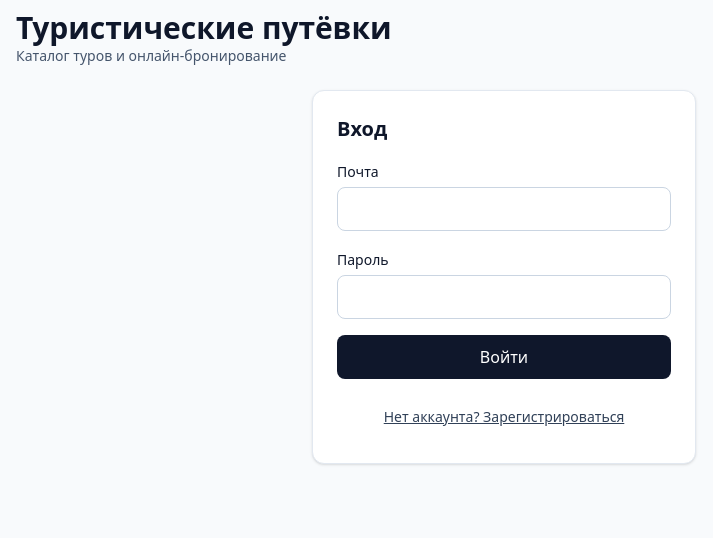
Scenario: App: авторизация › регистрация: лимит запросов (429) объясняется, а не выдаётся за ошибку сервера
Click the button "Нет аккаунта? Зарегистрироваться".
click(504, 417)  # box [337, 395, 671, 439]
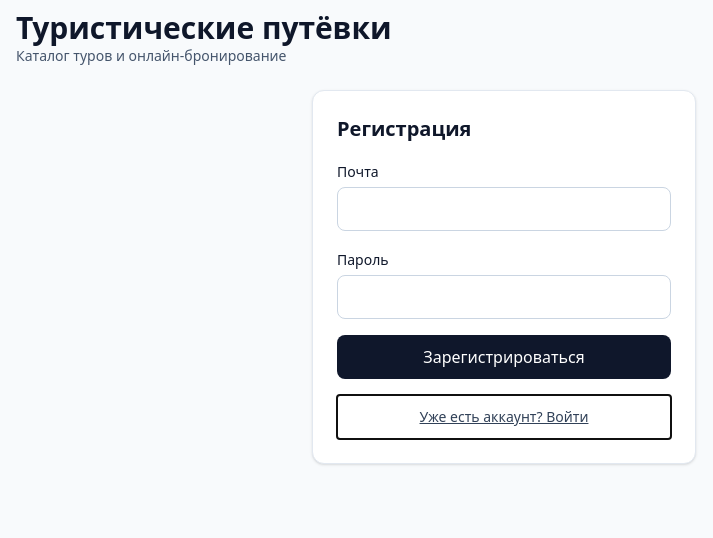
Type "rem@example.com" into the field labelled "Почта".
click(504, 209); type("rem@example.com")  # box [337, 187, 671, 231]
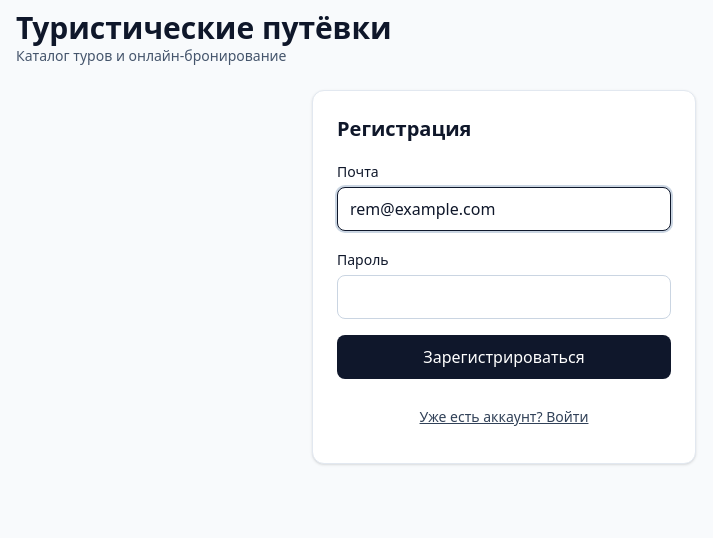
Type "secret123" into the password field labelled "Пароль".
click(504, 297); type("secret123")  # box [337, 275, 671, 319]
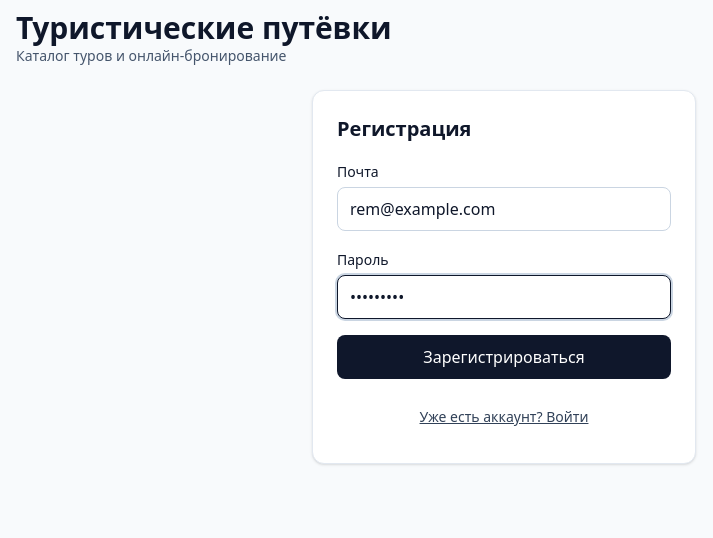
Click the button "Зарегистрироваться".
click(504, 357)  # box [337, 335, 671, 379]
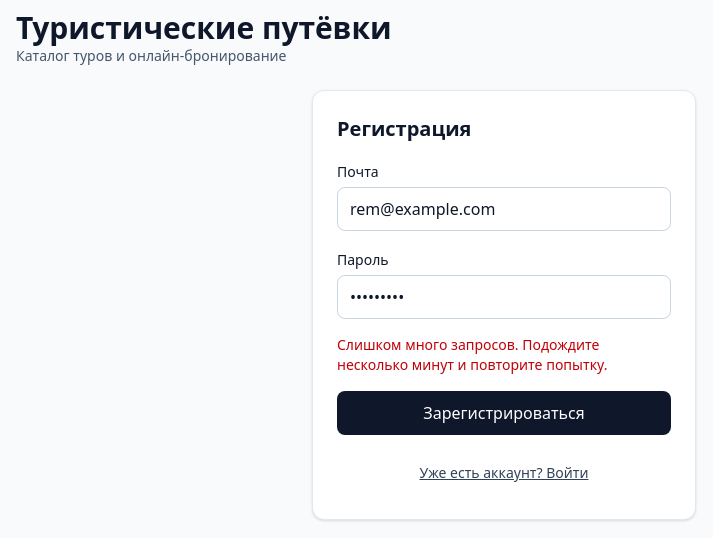
Expected: the message does not show "Ошибка на сервере", [337, 335, 607, 374]
Now the message shows "Слишком много запросов", box [337, 335, 607, 374]
